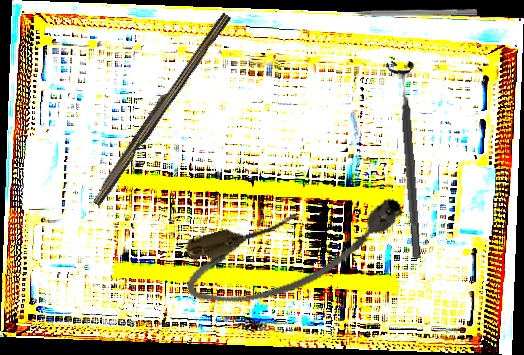Cannula: (175, 183, 417, 318)
Fixation Ring: (384, 60, 432, 260)
Pusher: (337, 8, 477, 16)
Scalpel Handle: (88, 8, 232, 209)
